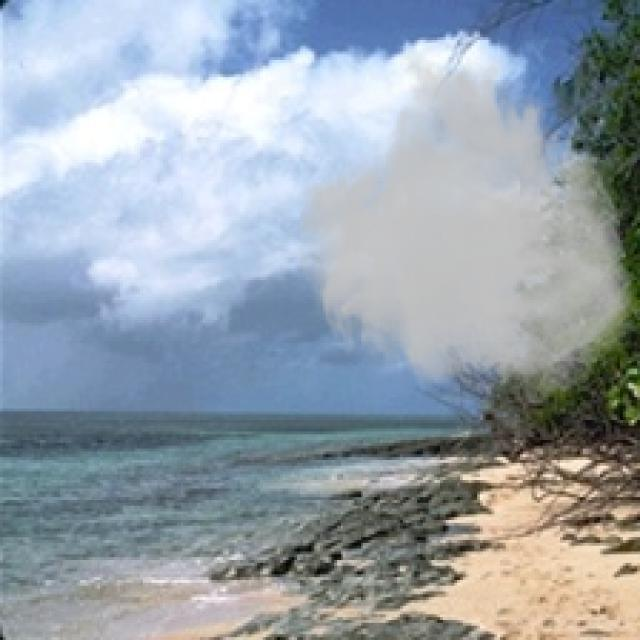Smoke: (294, 46, 637, 406)
